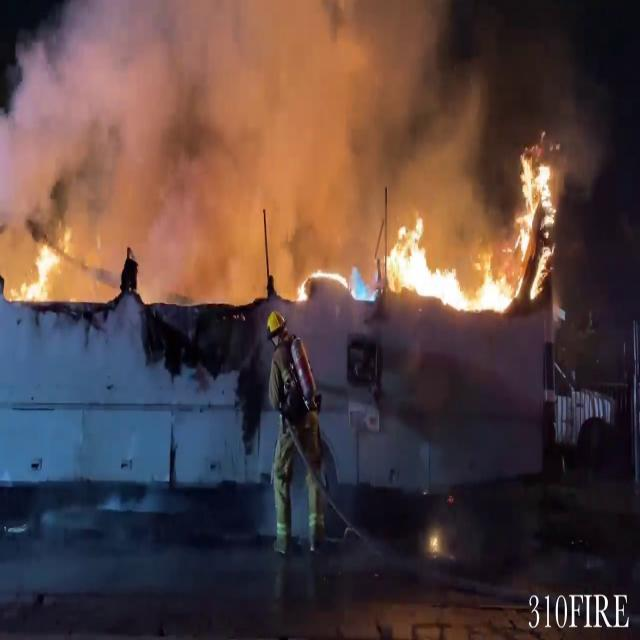Fire: (381, 212, 513, 318), (512, 129, 560, 304), (11, 235, 71, 305)
Smoke: (0, 0, 495, 274)
